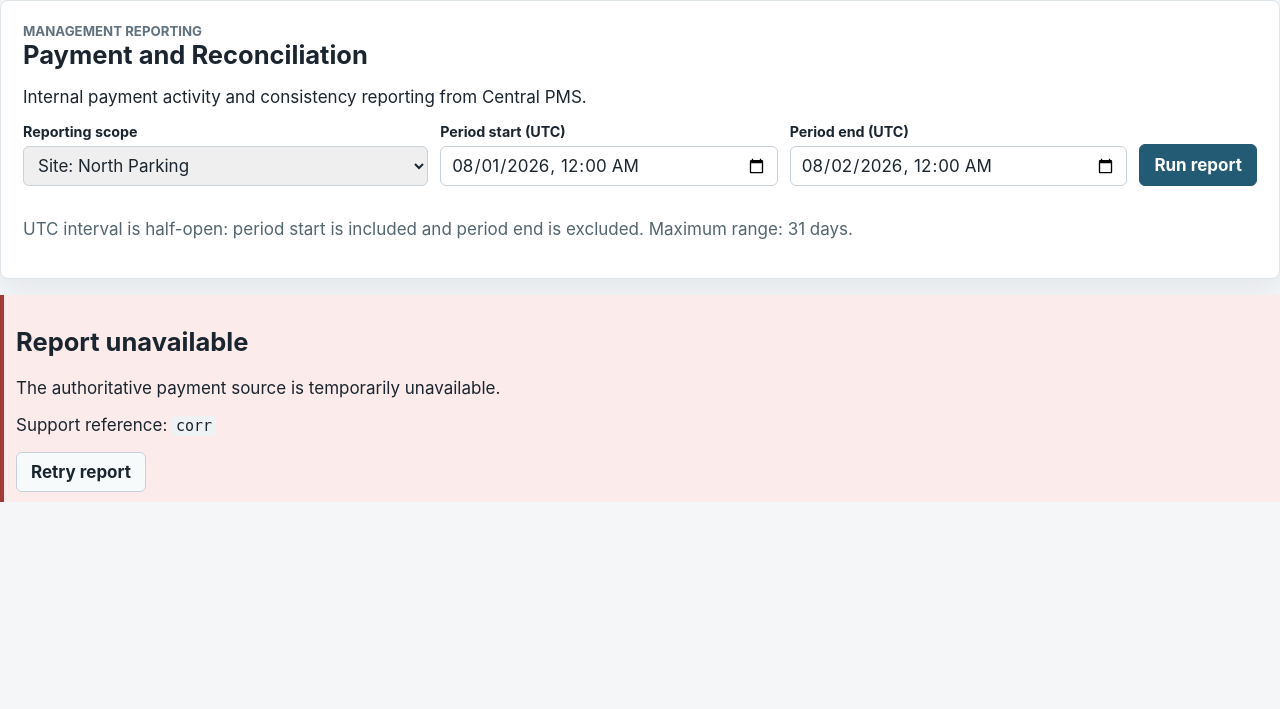
Test: PaymentReconciliationPage › offers bounded retry for a retryable failure
Click the button "Retry report" at (81, 472), box left=16, top=452, right=146, bottom=492
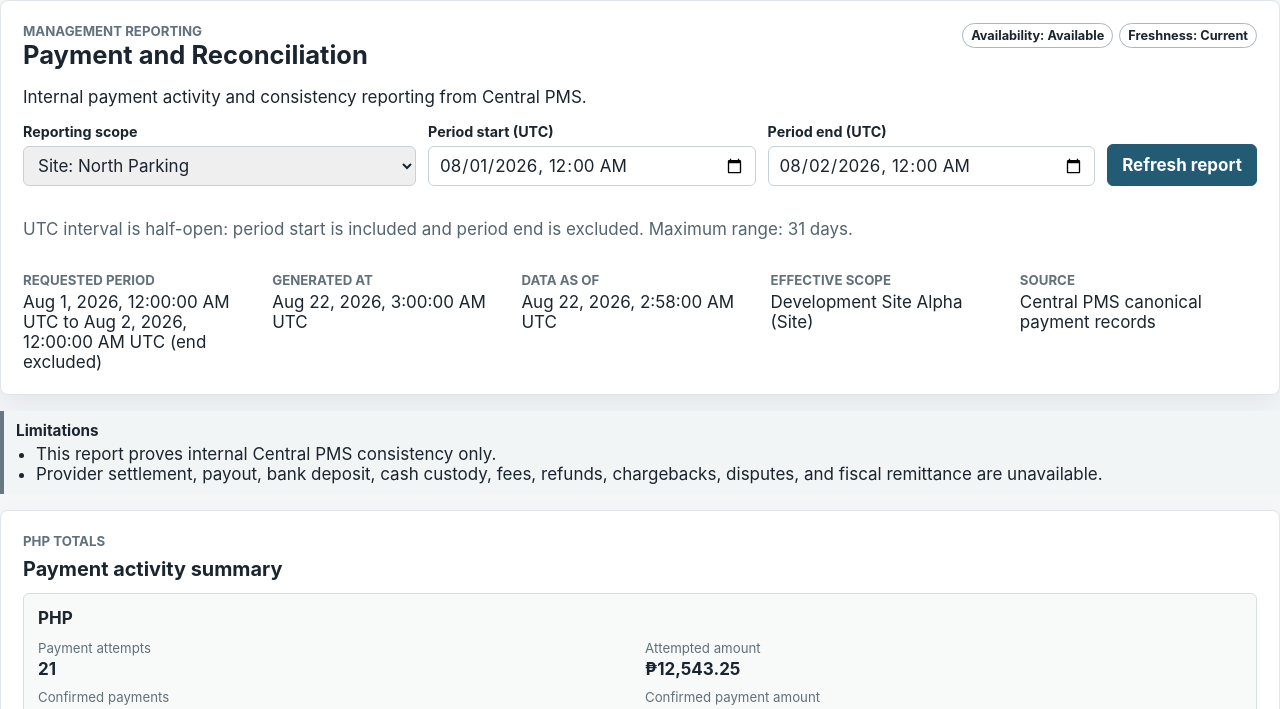
Check: the heading "Payment activity summary" is shown, box left=23, top=557, right=282, bottom=581
